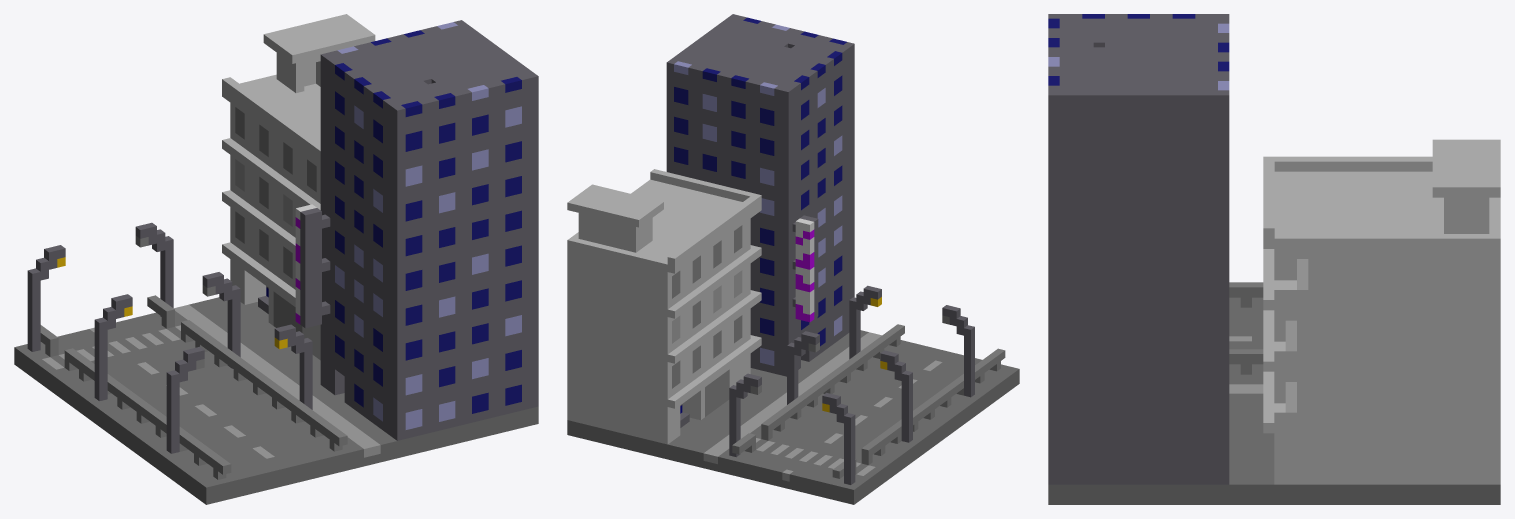
The model's file is voxel-street.glb.
3 renders of one model, left to right at view 1: azimuth 30°, elevation 25°; view 2: azimuth 150°, elevation 25°; view 3: azimuth 270°, elevation 25°, orthographic. The views are drawn at different scales.
Visible parts, largest first — view 1: VoxTransform; view 2: VoxTransform; view 3: VoxTransform.
Boxes of the visible parts, left/top/right/bottom form: VoxTransform: left=14, top=14, right=538, bottom=504; VoxTransform: left=567, top=14, right=1019, bottom=504; VoxTransform: left=1048, top=14, right=1500, bottom=504.
Size of the model in its own units: 40 by 40 by 40.
